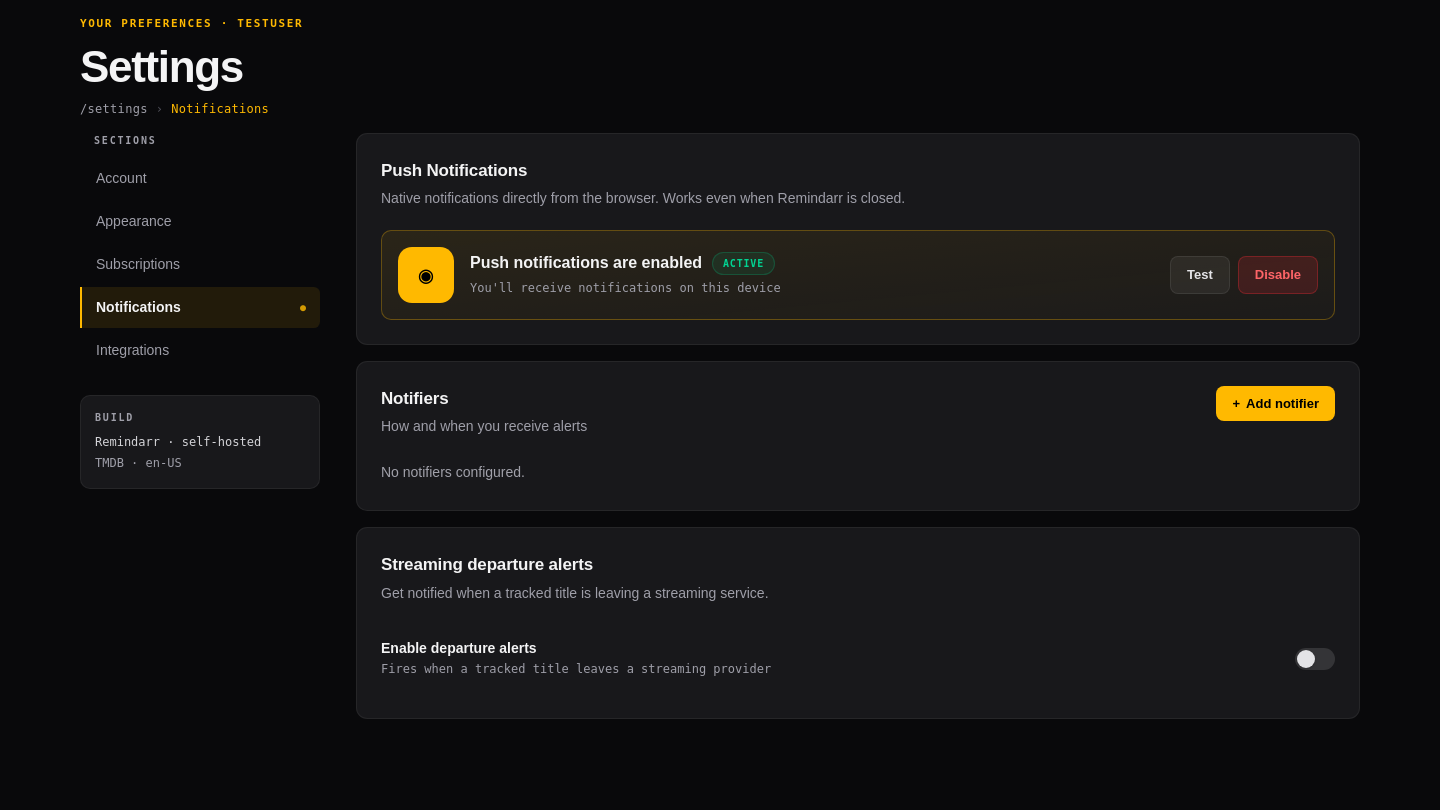
Test: PushNotificationsSection › auto-recovers when test reveals expired subscription
This screenshot has width=1440, height=810.
Click test button
Step 1. Click the button "Test" → x=1200, y=275, box x1=1170 y1=256 x2=1230 y2=294
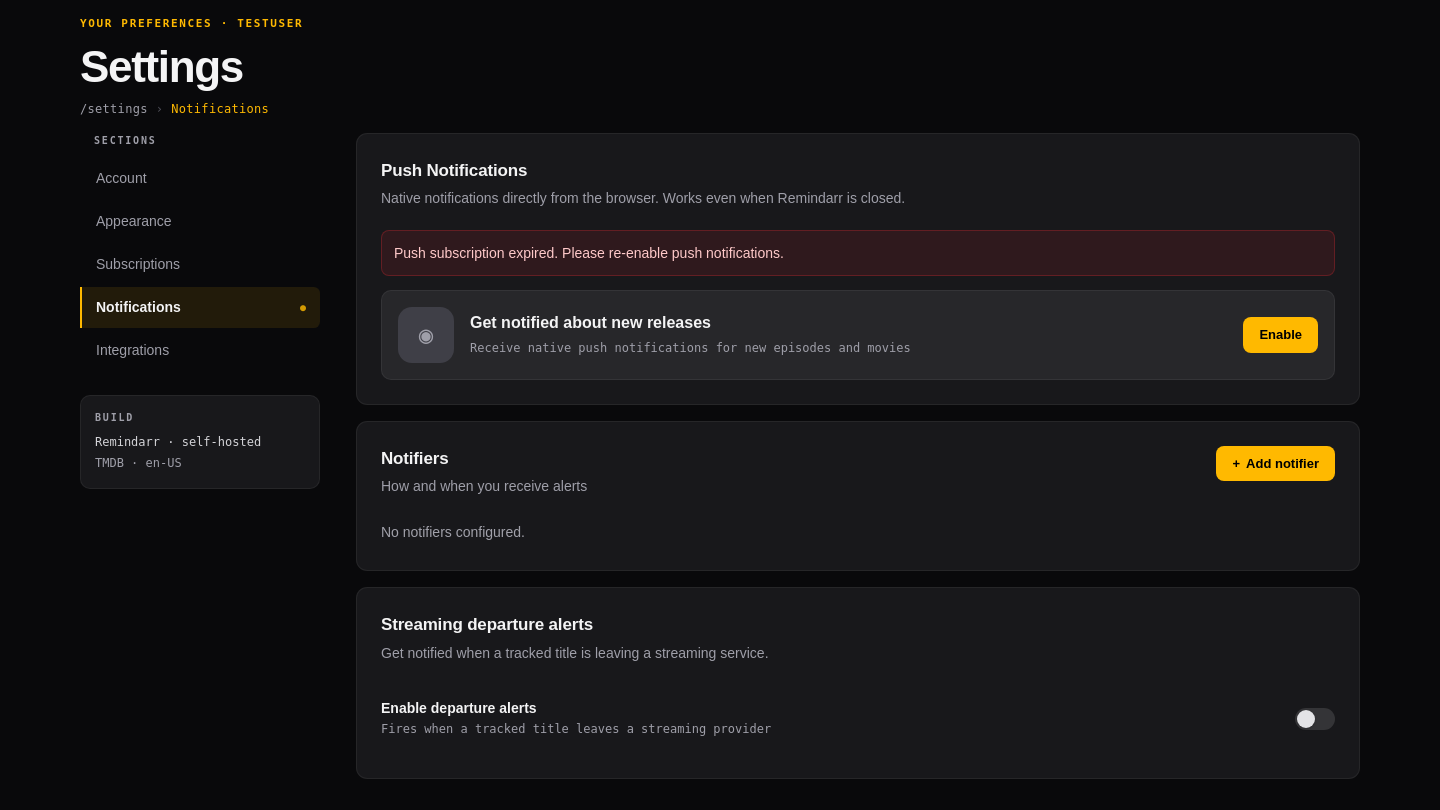
Now the text "subscription expired" is shown, box x1=394 y1=245 x2=784 y2=261
Now the button "Enable" is shown, box x1=1243 y1=317 x2=1318 y2=352
